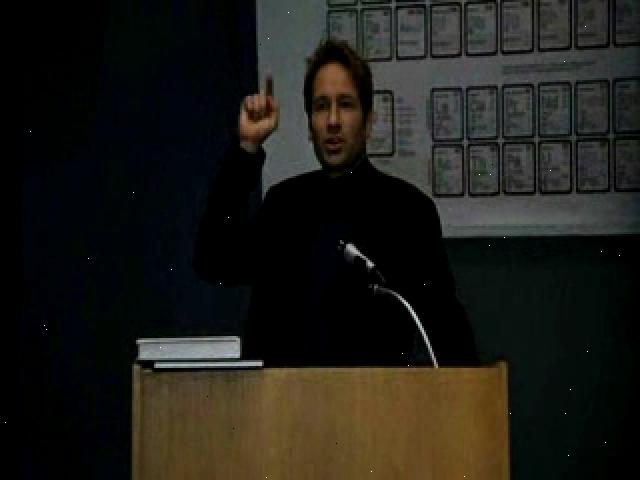T: (180, 36, 478, 370)
